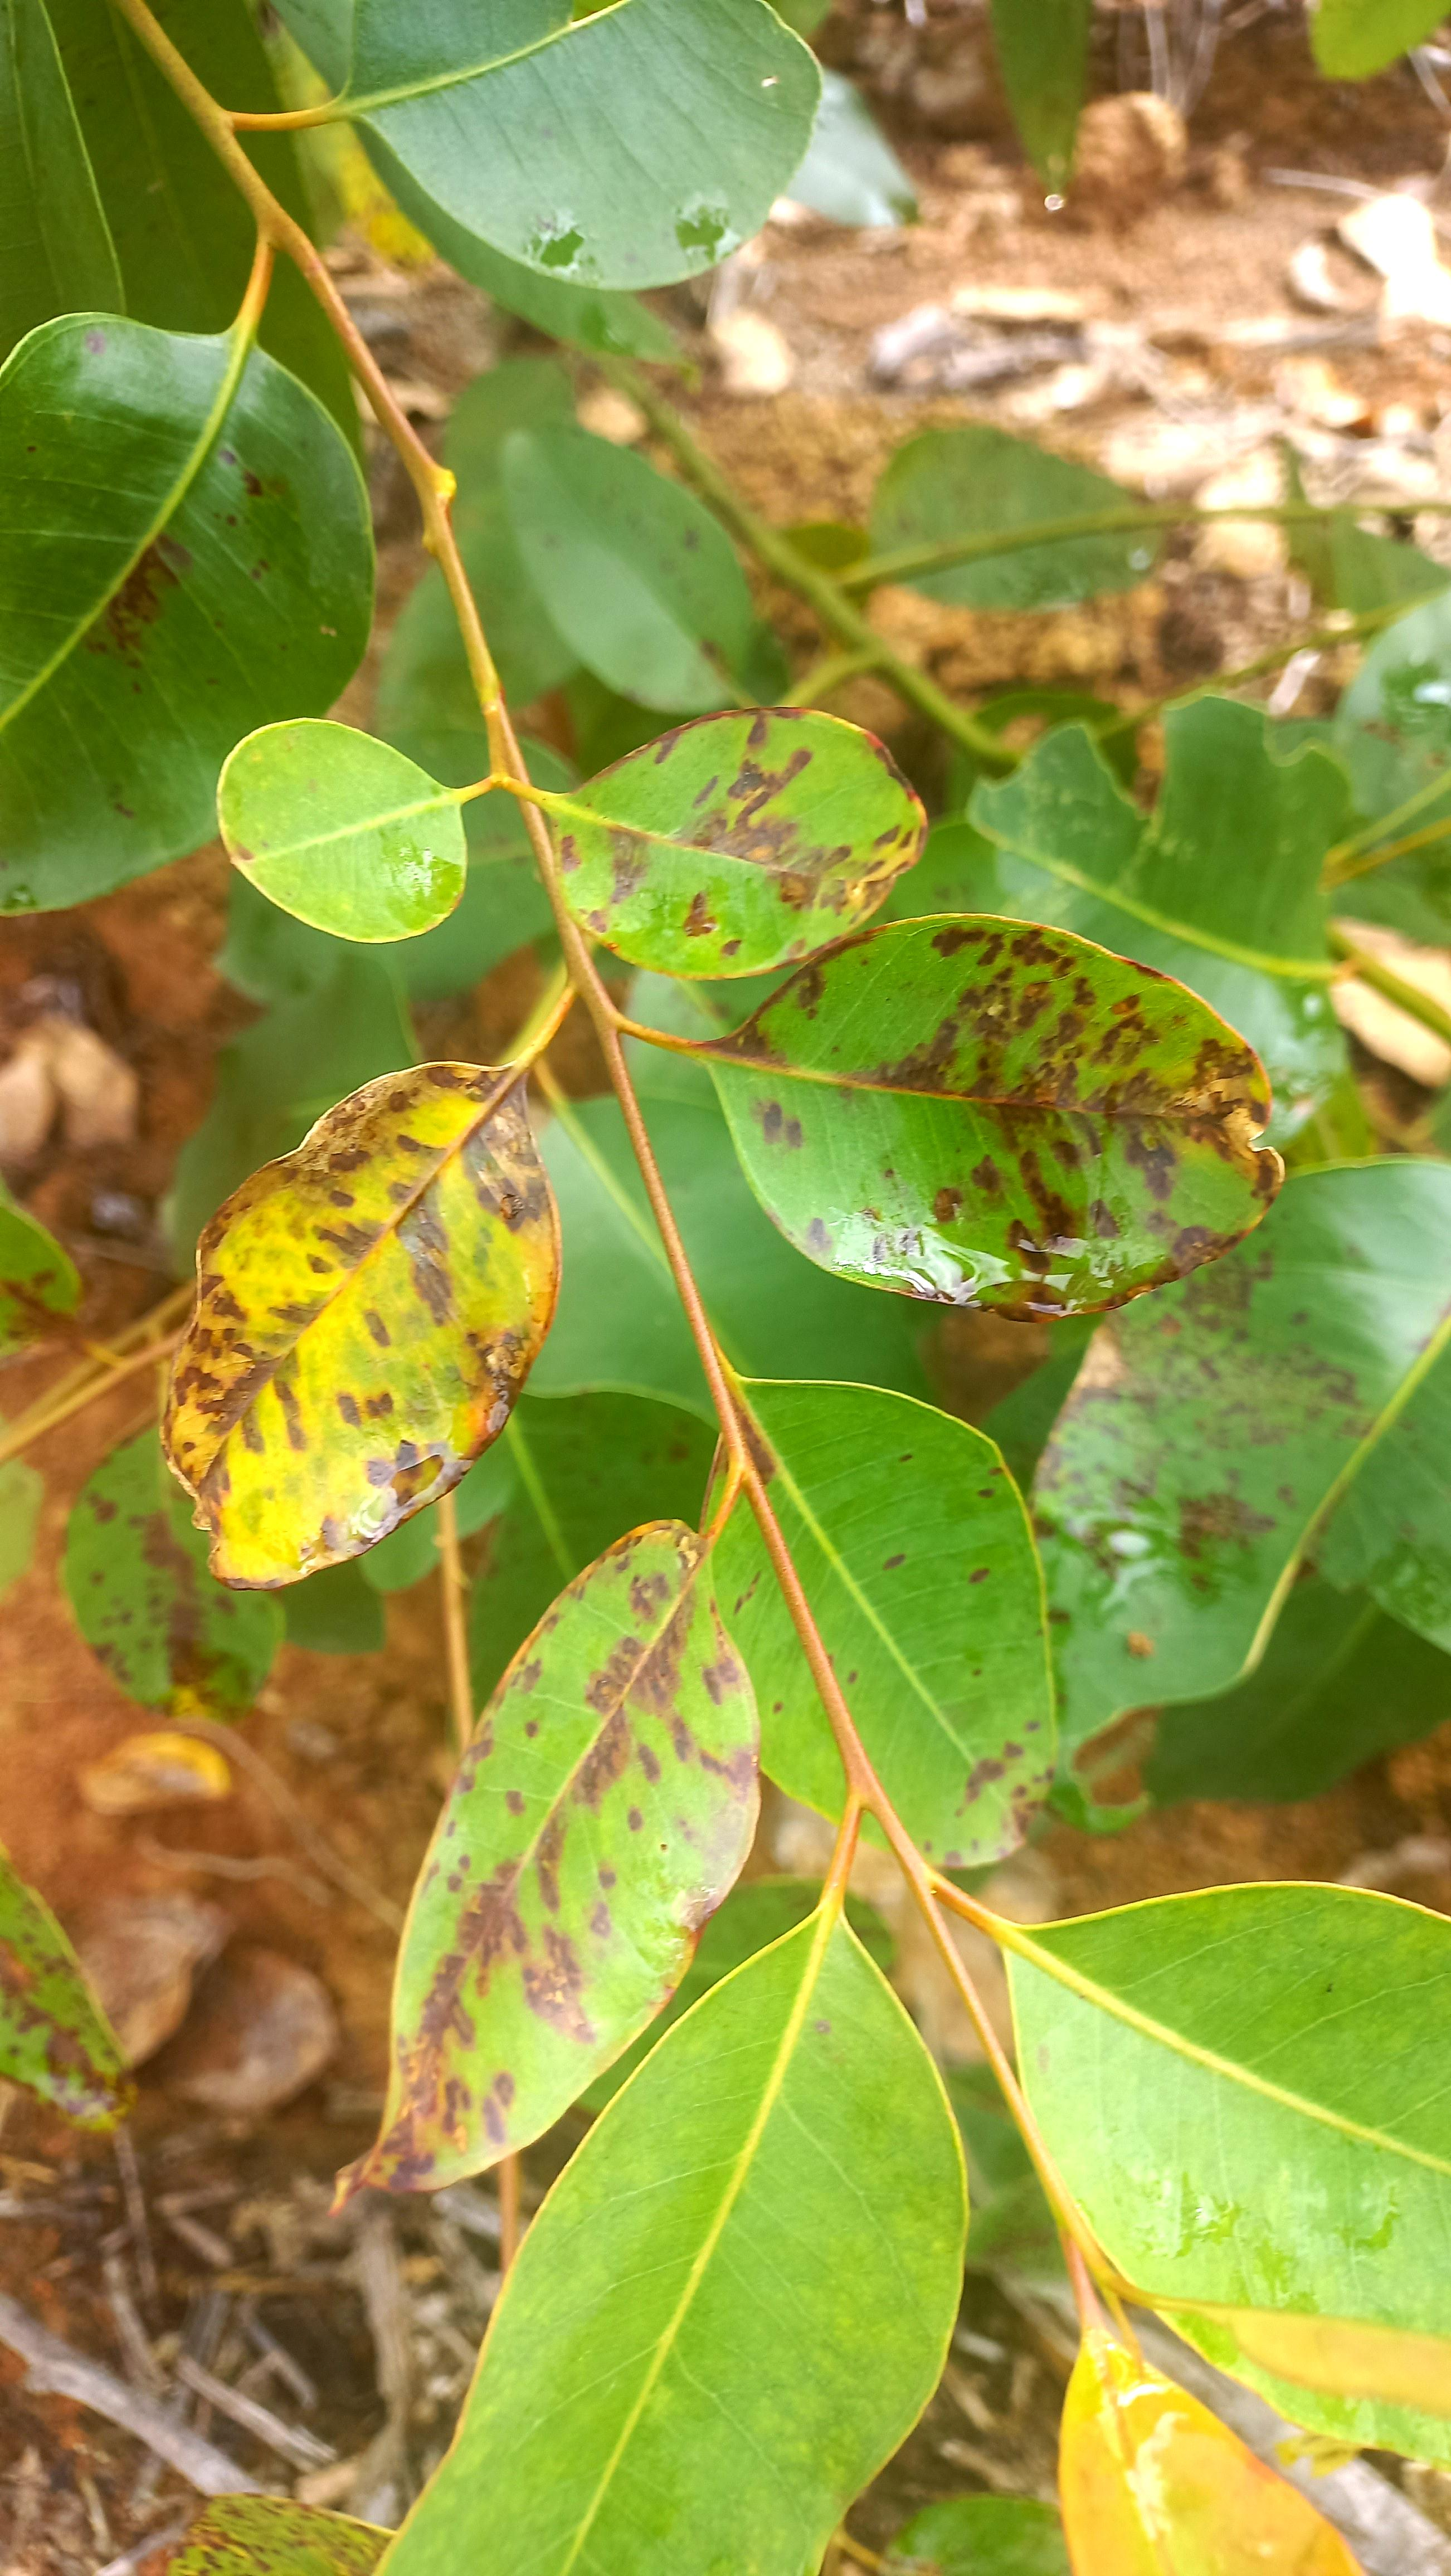Xanthomonas: (184, 1053, 554, 1575), (409, 1585, 727, 2173), (950, 924, 1297, 1295), (582, 740, 929, 987)
